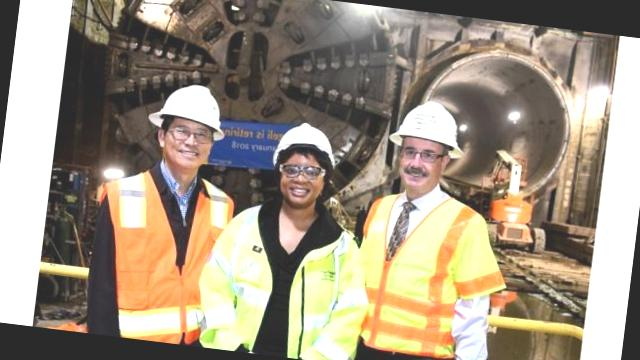helmet: (141, 78, 236, 146), (386, 96, 473, 162)
person: (342, 92, 526, 360), (76, 75, 248, 348), (200, 109, 383, 360)
